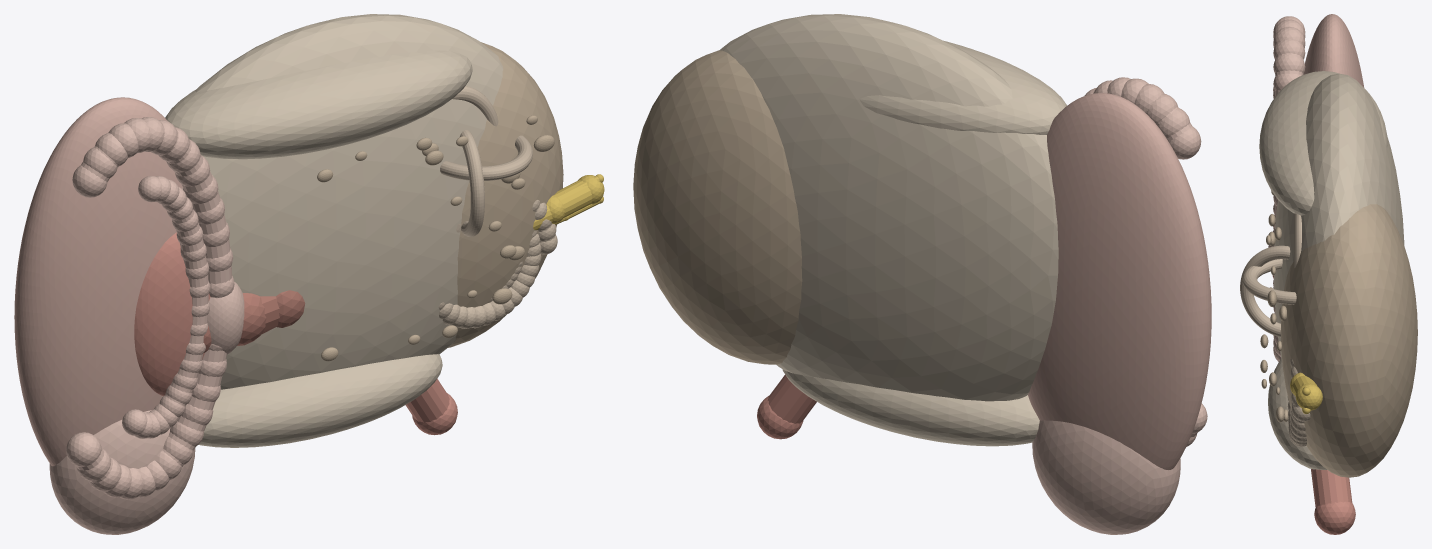
File: ear.glb
3 views of the same model, side by side, from view 1: azimuth 30°, elevation 25°; view 2: azimuth 150°, elevation 25°; view 3: azimuth 270°, elevation 25° (orthographic). The views are drawn at different scales.
Visible parts, largest first — view 1: temporal_bone_mass, outer_ear_main, temporal_bone_upper, helix_rim, mastoid_bone_mass, temporal_bone_floor, ear_lobule, antihelix_ridge, concha_bowl, cochlea, external_auditory_canal, tragus (+5 smaller); view 2: temporal_bone_mass, outer_ear_main, mastoid_bone_mass, ear_lobule, temporal_bone_floor, temporal_bone_upper, helix_rim, eustachian_tube; view 3: mastoid_bone_mass, temporal_bone_mass, temporal_bone_upper, outer_ear_main, eustachian_tube, helix_rim, temporal_bone_floor, semicircular_canal_lateral, semicircular_canal_posterior, cochlea, auditory_nerve_main, semicircular_canal_superior.
Part boxes in pixels (x1,y1,x2,y2): temporal_bone_mass: [182, 14, 503, 389]; outer_ear_main: [14, 97, 182, 466]; temporal_bone_upper: [165, 50, 472, 159]; helix_rim: [66, 117, 234, 499]; mastoid_bone_mass: [448, 42, 563, 347]; temporal_bone_floor: [198, 354, 442, 447]; ear_lobule: [49, 410, 195, 534]; antihelix_ridge: [122, 176, 210, 438]; concha_bowl: [134, 232, 210, 395]; cochlea: [438, 200, 557, 328]; external_auditory_canal: [203, 290, 305, 352]; tragus: [207, 282, 244, 354]; temporal_bone_mass: [719, 14, 1058, 401]; outer_ear_main: [1028, 93, 1211, 469]; mastoid_bone_mass: [633, 50, 802, 364]; ear_lobule: [1032, 420, 1180, 534]; temporal_bone_floor: [782, 369, 1039, 446]; temporal_bone_upper: [859, 40, 1067, 134]; helix_rim: [1084, 77, 1207, 446]; eustachian_tube: [757, 374, 816, 439]; mastoid_bone_mass: [1280, 204, 1417, 477]; temporal_bone_mass: [1273, 73, 1404, 367]; temporal_bone_upper: [1259, 71, 1387, 215]; outer_ear_main: [1303, 14, 1364, 87]; eustachian_tube: [1311, 469, 1355, 534]; helix_rim: [1273, 16, 1305, 361]; temporal_bone_floor: [1268, 359, 1326, 469]; semicircular_canal_lateral: [1240, 245, 1290, 337]; semicircular_canal_posterior: [1242, 259, 1296, 304]; cochlea: [1287, 358, 1310, 446]; auditory_nerve_main: [1290, 372, 1322, 410]; semicircular_canal_superior: [1294, 213, 1301, 267].
Bounding box in the file's own units: 4.17 × 3.14 × 1.24.
